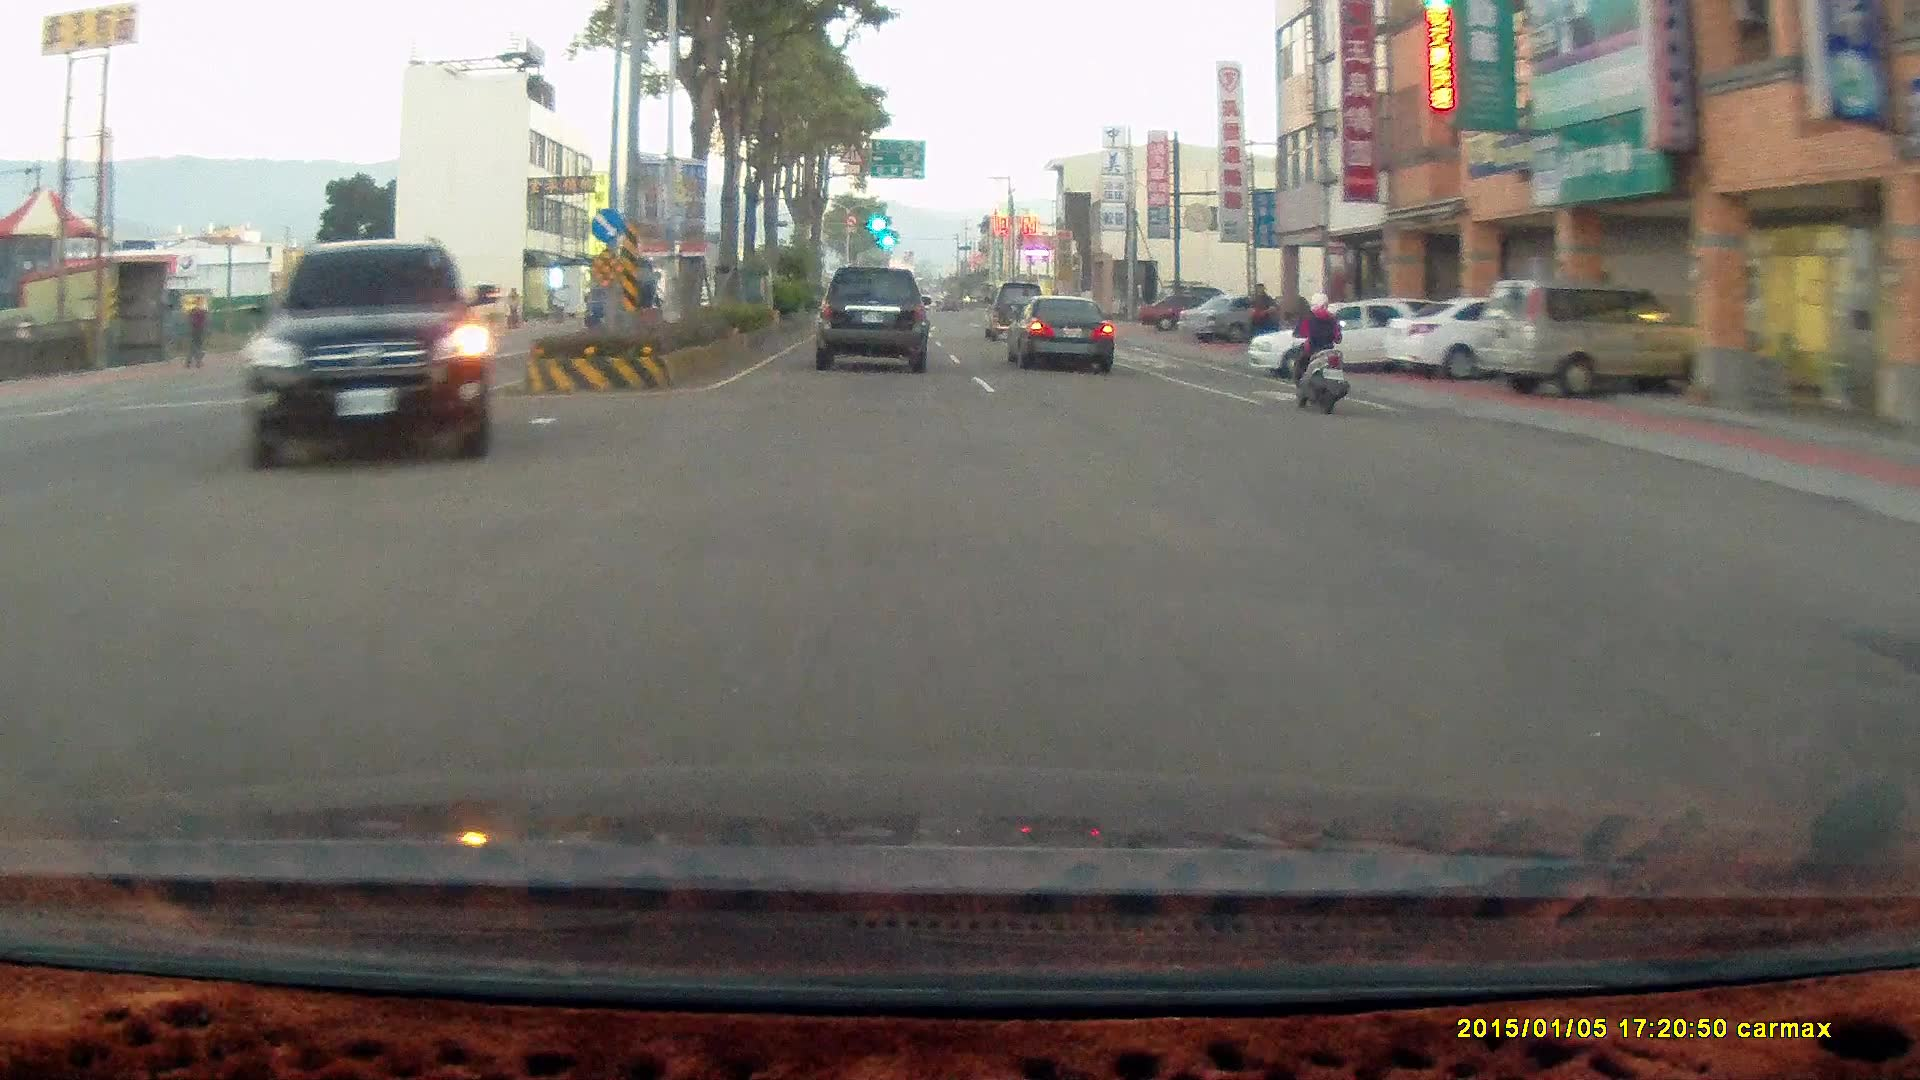pedestrian: (1246, 282, 1275, 352), (184, 292, 208, 367)
rider: (1275, 285, 1357, 421), (1287, 291, 1351, 415)
vehicle: (229, 237, 506, 470), (250, 234, 500, 472), (1471, 278, 1719, 396), (1470, 280, 1697, 405), (1379, 296, 1588, 384), (1379, 295, 1588, 383), (1250, 302, 1450, 380), (1246, 296, 1429, 377), (813, 265, 934, 376), (813, 264, 931, 370), (1007, 296, 1125, 374), (1004, 291, 1111, 372), (1178, 293, 1288, 341), (1177, 294, 1287, 342), (981, 280, 1048, 339), (1136, 290, 1228, 329)
